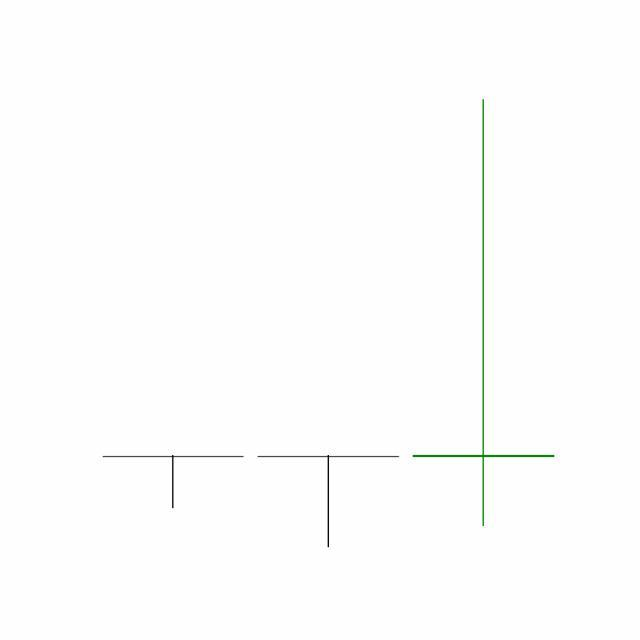Dragonfly Doji: (250, 453, 407, 549)
